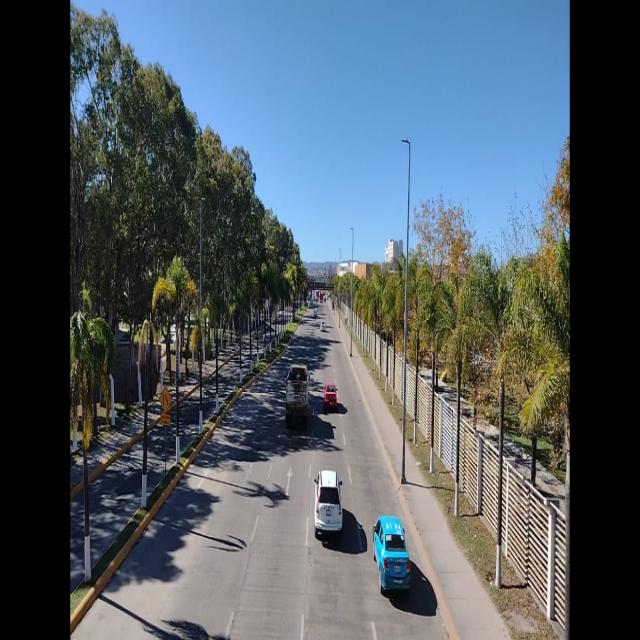Auto: (372, 513, 412, 595), (314, 467, 344, 539), (324, 381, 338, 409), (320, 320, 326, 332)
